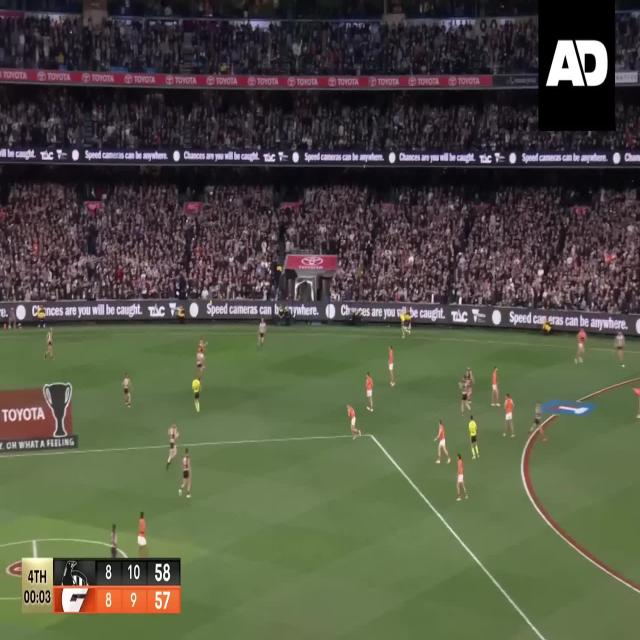crowd: (2, 172, 640, 312), (2, 86, 640, 151), (1, 23, 538, 73), (617, 14, 640, 69)
